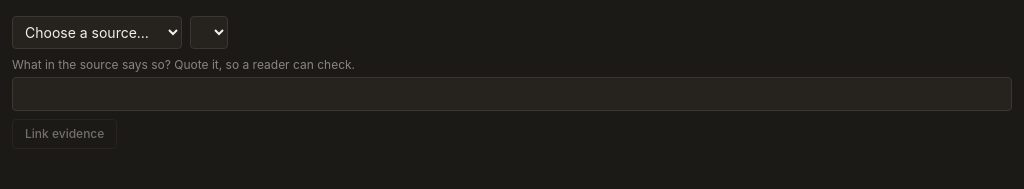
Scenario: linking evidence to a claim › explains a refused duplicate in terms of what it would distort
Select "A gazette notice" in the 1st dropdown named "source" at (97, 32), box [12,16,182,49]
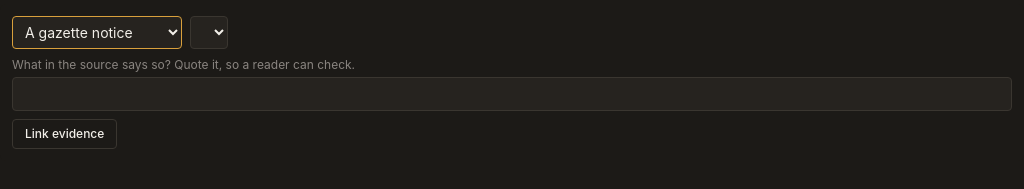
Click the button "Link evidence" at (65, 134), box [12,119,117,149]
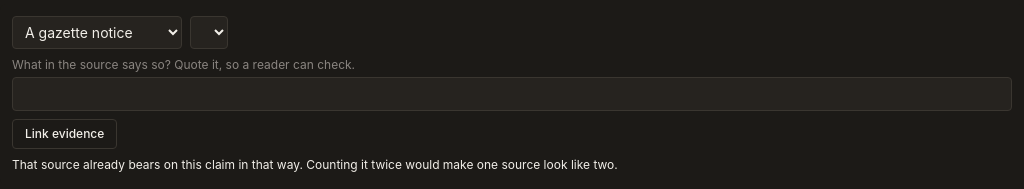
Expected: the message does not show "unique constraint", [12,157,618,172]
Expected: the message shows "make one source look like two", [12,157,618,172]
